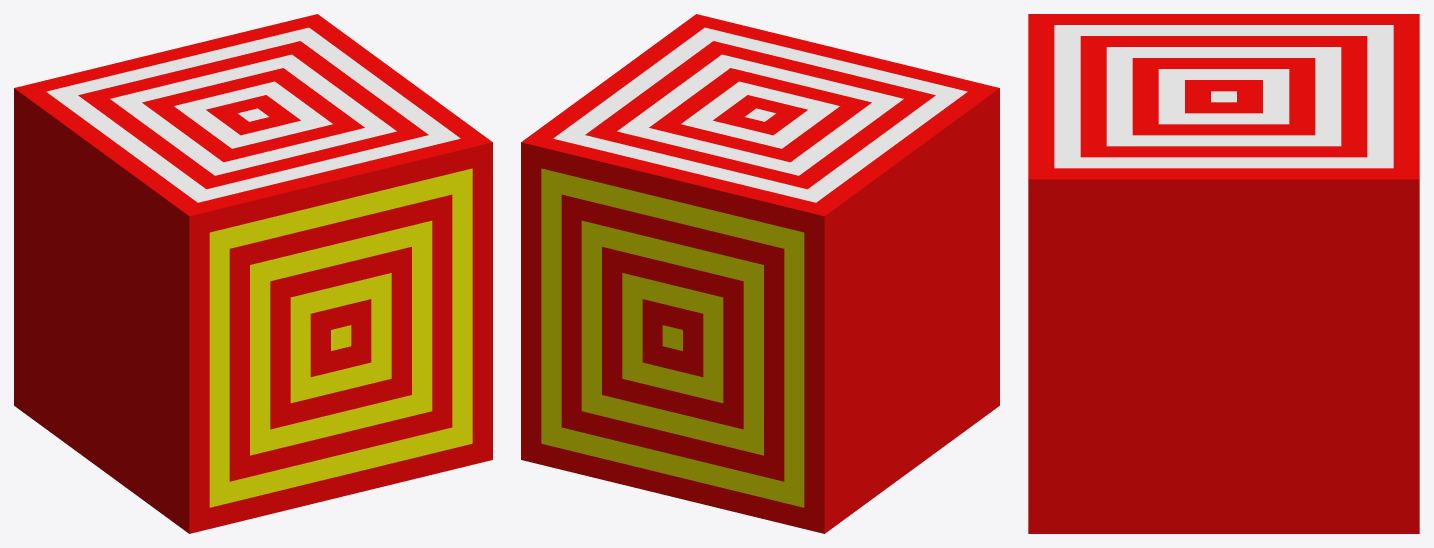
3 renders of one model, left to right at view 1: azimuth 30°, elevation 25°; view 2: azimuth 150°, elevation 25°; view 3: azimuth 270°, elevation 25°, orthographic. The views are drawn at different scales.
Visible parts, largest first — view 1: Объект_Куб; view 2: Объект_Куб; view 3: Объект_Куб.
Part boxes in pixels (x1,y1,x2,y2): Объект_Куб: (14,14,492,533); Объект_Куб: (521,14,999,533); Объект_Куб: (1028,14,1419,533).
Size of the model in its own units: 100 by 100 by 100.
